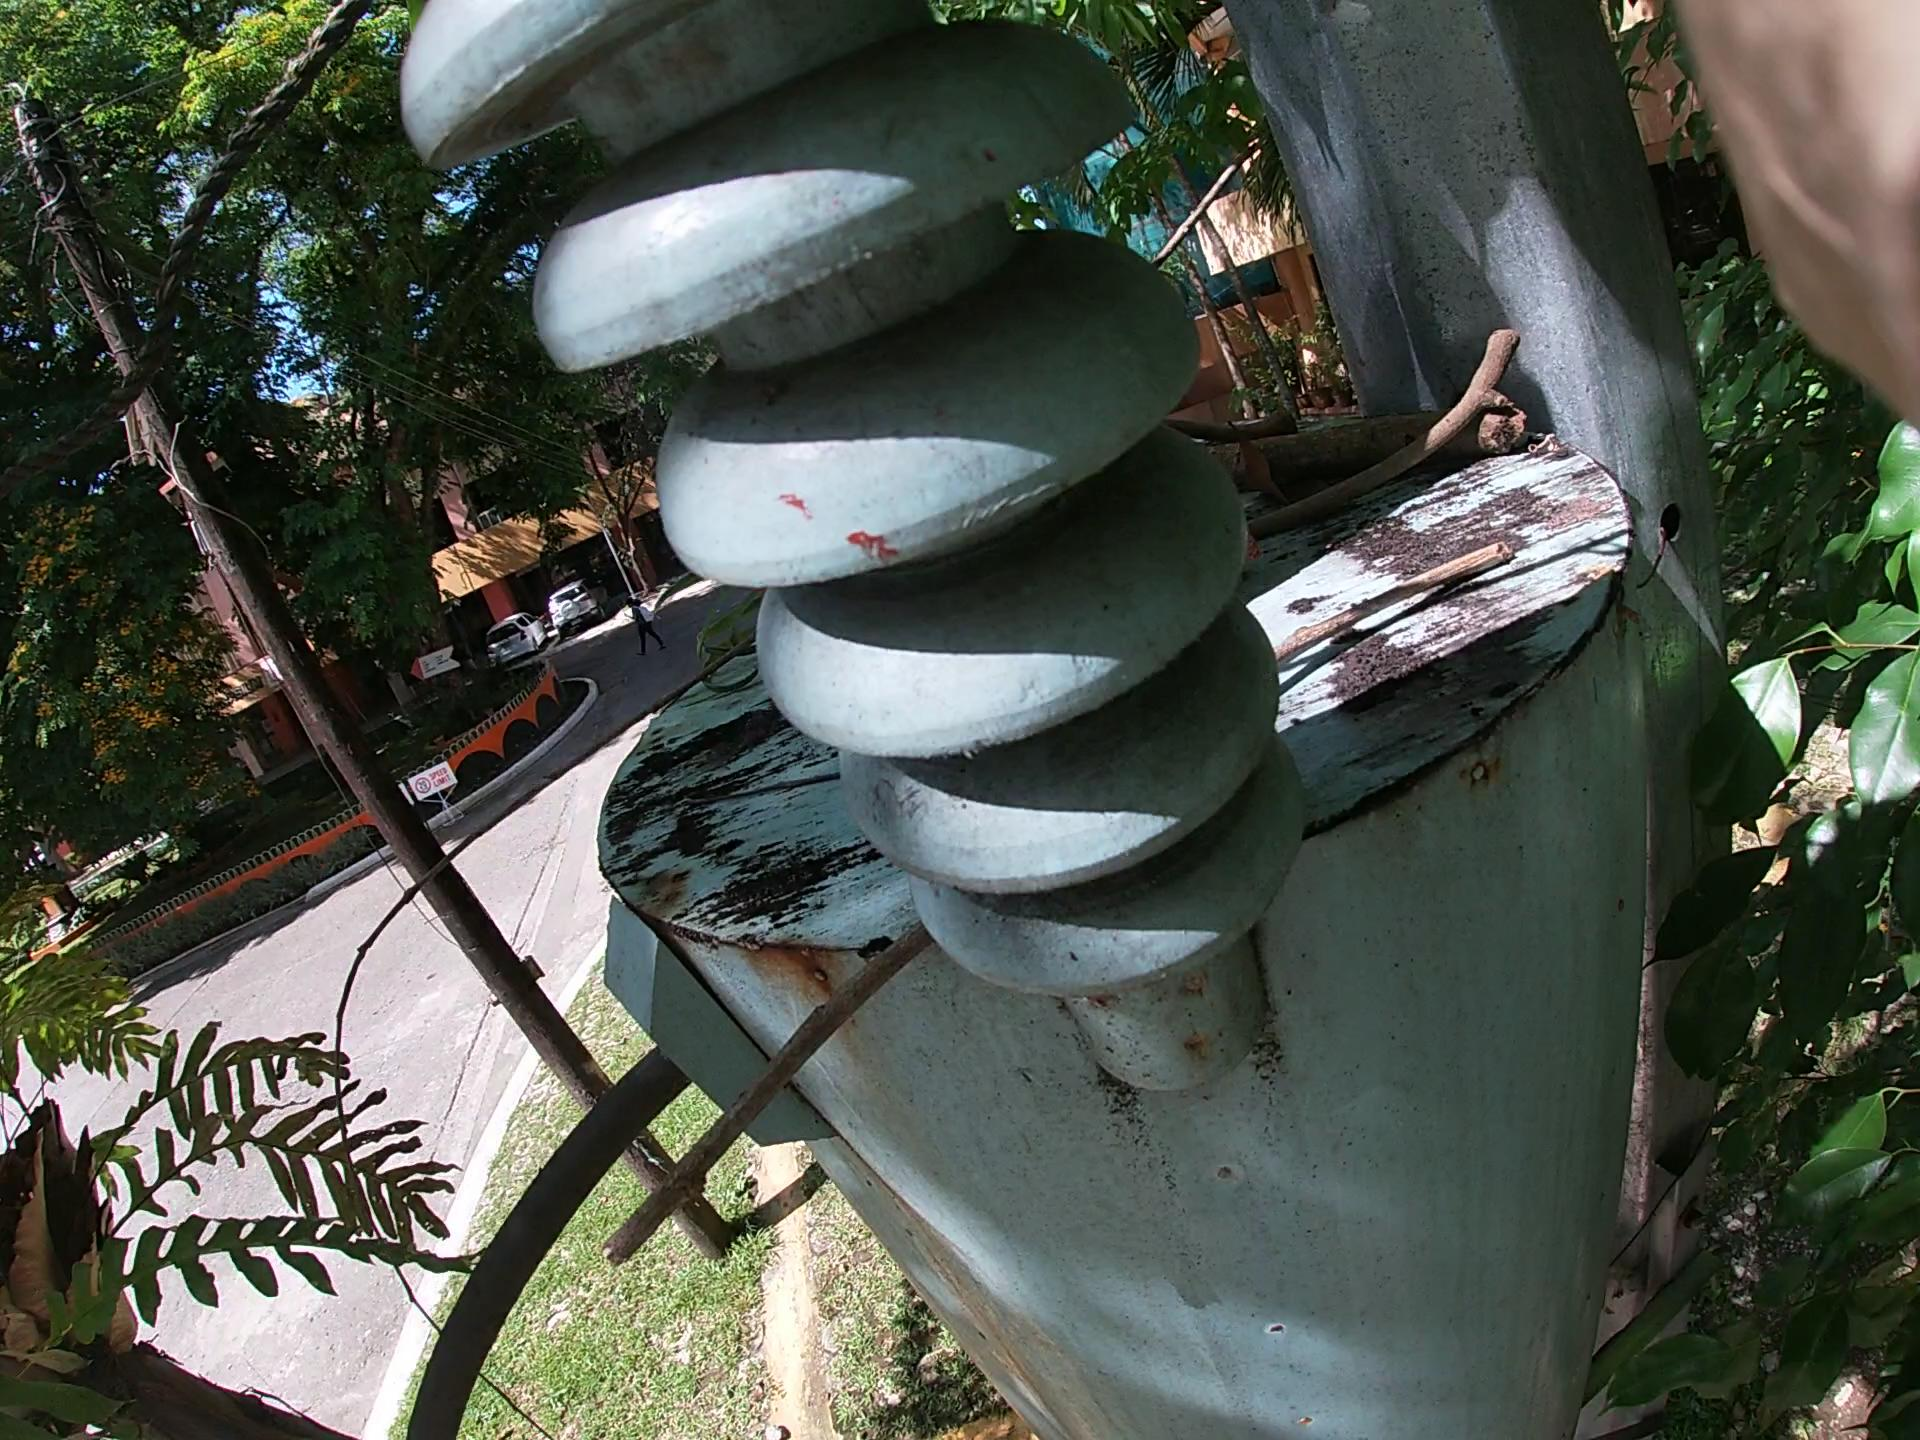branch with leaves: (1231, 386, 1609, 555)
tree branch: (165, 182, 1150, 1175), (671, 531, 1398, 1203), (1246, 346, 1615, 549)
